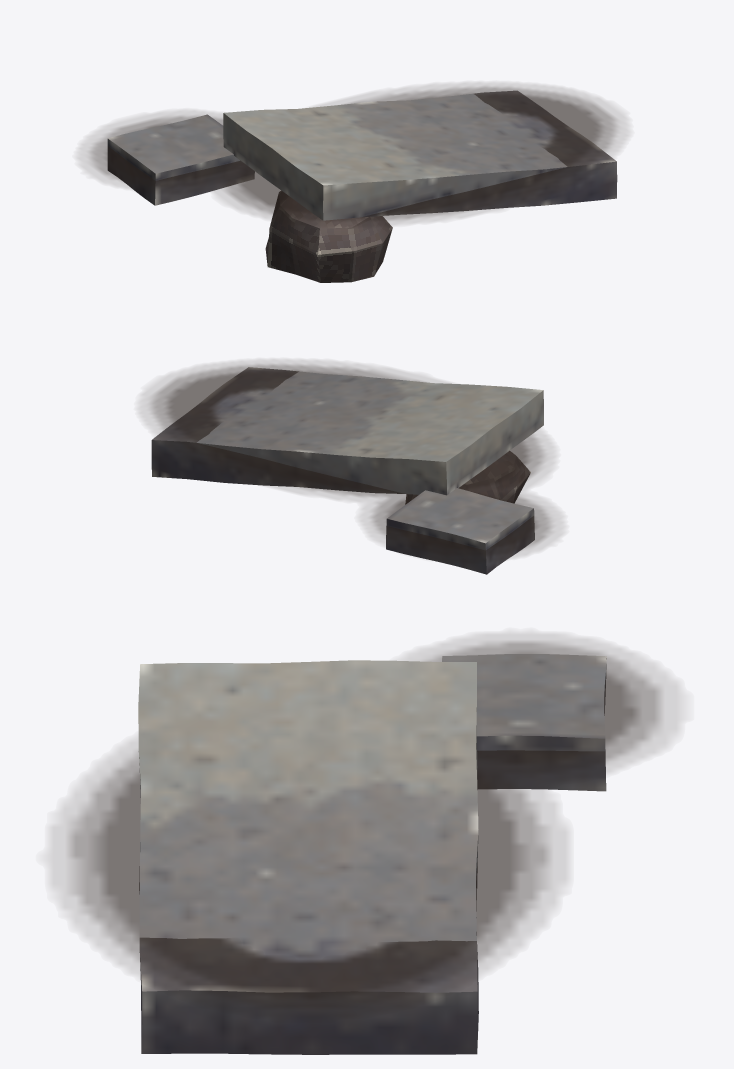
3 views of the same model, one above another, from view 1: azimuth 30°, elevation 25°; view 2: azimuth 150°, elevation 25°; view 3: azimuth 270°, elevation 25° (orthographic). The views are drawn at different scales.
Visible parts, largest first — view 1: Slab, GroundShade, SlabStone; view 2: Slab, GroundShade, SlabStone; view 3: Slab, GroundShade.
Part boxes in pixels (left/top/right/bottom): Slab: left=107, top=90, right=617, bottom=220; GroundShade: left=79, top=83, right=627, bottom=225; SlabStone: left=265, top=191, right=392, bottom=282; Slab: left=151, top=367, right=543, bottom=574; GroundShade: left=141, top=360, right=562, bottom=560; SlabStone: left=405, top=451, right=530, bottom=504; Slab: left=138, top=654, right=606, bottom=1054; GroundShade: left=52, top=634, right=677, bottom=1015.
Size of the model in its own units: 11 by 2.46 by 7.9.
3 materials, 3 textured.
